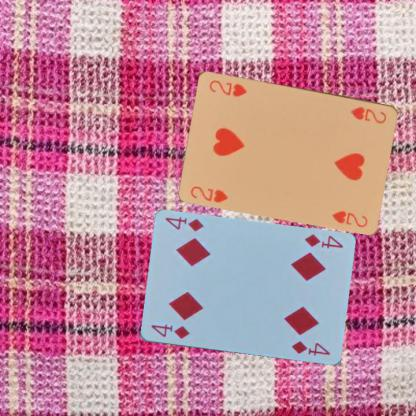2h: (188, 183, 230, 204), (348, 104, 388, 125)
4d: (147, 321, 190, 341), (301, 232, 344, 250)
